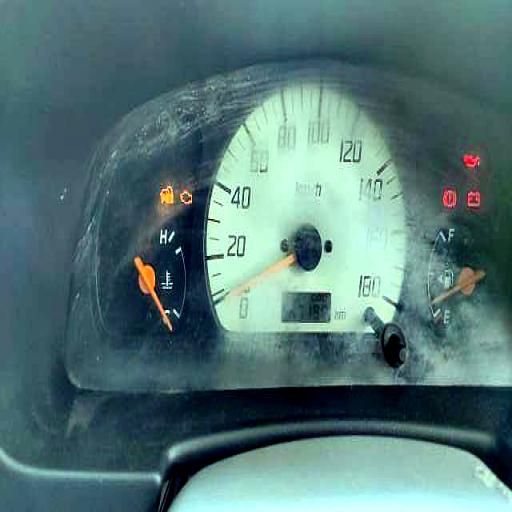brake_system_fault: (442, 190, 458, 208)
car_closed: (159, 186, 174, 206)
check_engine: (179, 191, 193, 205)
oil: (463, 154, 480, 168)
vehicle_charging: (468, 191, 480, 207)
